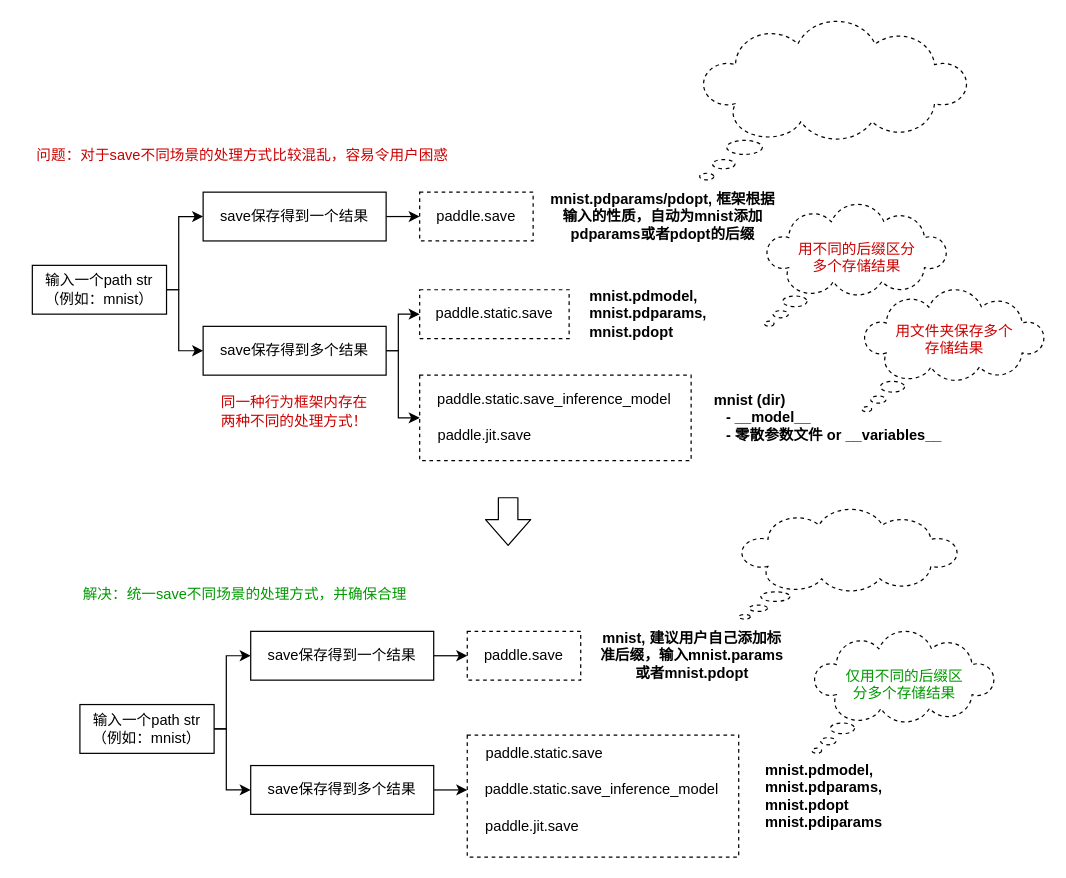
Image size: 1066x878. Some labels were removed from this diagram. Here are the shapes that lost their labels. From the top down, the centre of each, then its label:
(833,100): 一个path与一个存储结果对应，无歧义，但是增加后缀引入了歧义，用户输入同一个path可能得到多个存储结果
(847,563): 一个path与一个存储结果对应，无歧义
